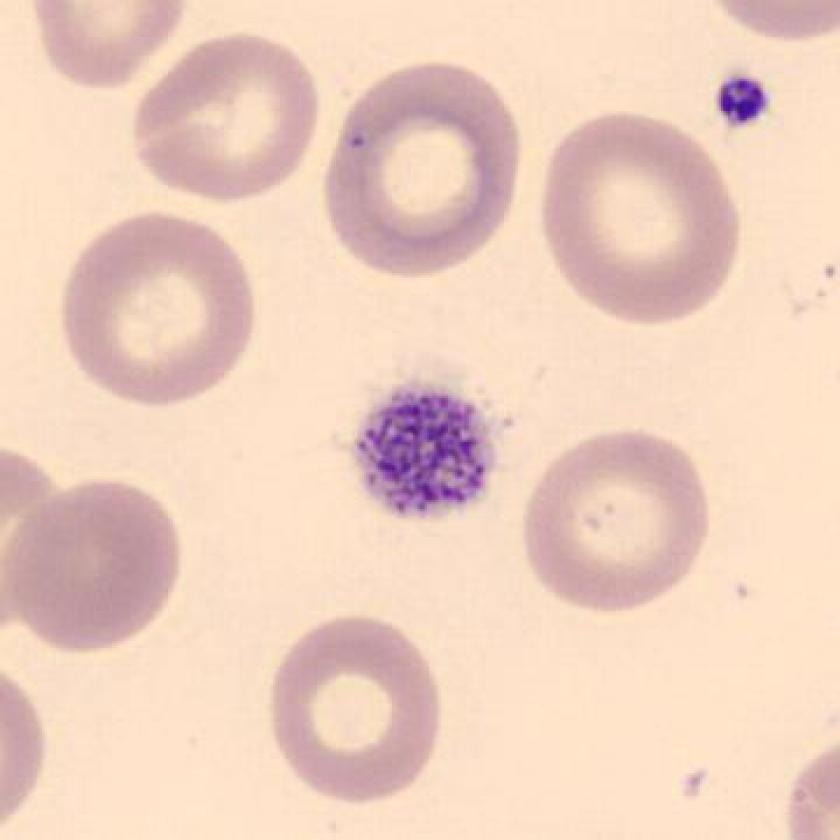platelets: (335, 362, 514, 538), (706, 59, 780, 142)
